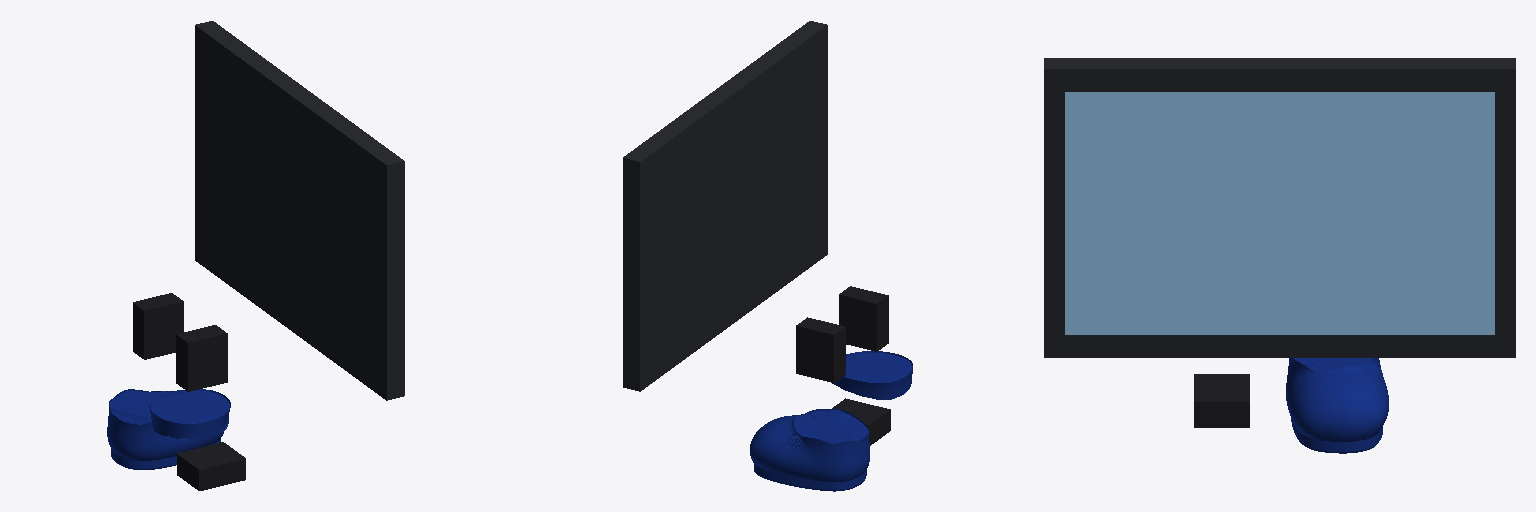
robot.urdf — haetburi:
<?xml version="1.0"?>
<!-- Haetburi biped (v14_sts3032_hidden_w4) - generated by tools/build_model.py, do not edit by hand -->
<robot name="haetburi">
  <mujoco>
    <compiler meshdir="." balanceinertia="true" discardvisual="false" strippath="false" fusestatic="false"/>
  </mujoco>
  <material name="display"><color rgba="0.18 0.19 0.21 1"/></material>
  <material name="screen"><color rgba="0.62 0.80 0.95 1"/></material>
  <material name="shell"><color rgba="0.106 0.216 0.541 1"/></material>
  <material name="motor"><color rgba="0.15 0.15 0.17 1"/></material>
  <material name="foot"><color rgba="0.25 0.25 0.28 1"/></material>
  <link name="world"/>
  <joint name="floating_base" type="floating">
    <parent link="world"/><child link="pelvis"/>
    <origin xyz="0 0 0" rpy="0 0 0"/>
  </joint>
  <link name="pelvis">
    <inertial>
      <origin xyz="0.0101596 -6.85088e-05 0.0236794" rpy="0 0 0"/>
      <mass value="0.249291"/>
      <inertia ixx="0.000142361" ixy="-1.47841e-07" ixz="-1.03926e-05" iyy="0.000101241" iyz="-4.72547e-09" izz="0.000178632"/>
    </inertial>
    <visual><origin xyz="0 0 0" rpy="0 0 0"/><geometry><mesh filename="meshes/pelvis.stl"/></geometry><material name="shell"/></visual>
    <visual><origin xyz="0.00550237 0.0220127 0.02575" rpy="0 0 0"/><geometry><box size="0.023 0.012 0.0275"/></geometry><material name="motor"/></visual>
    <visual><origin xyz="0.00549763 -0.0222844 0.02575" rpy="0 0 0"/><geometry><box size="0.023 0.012 0.0275"/></geometry><material name="motor"/></visual>
    <collision><origin xyz="0.00671404 -0.000131536 0.023485" rpy="0 0 0"/><geometry><box size="0.0804981 0.106897 0.04697"/></geometry></collision>
  </link>
  <link name="torso">
    <inertial>
      <origin xyz="0.0226896 7.48859e-05 0.100629" rpy="0 0 0"/>
      <mass value="1.49028"/>
      <inertia ixx="0.0181079" ixy="-4.17872e-05" ixz="0.00309935" iyy="0.0178599" iyz="-4.44757e-05" izz="0.0103089"/>
    </inertial>
    <visual><origin xyz="0 0 0" rpy="0 0 0"/><geometry><mesh filename="meshes/torso.stl"/></geometry><material name="shell"/></visual>
    <visual><origin xyz="0.0755394 0 0.036026" rpy="0 0 0"/><geometry><box size="0.010626 0.194502 0.131485"/></geometry><material name="display"/></visual>
    <visual><origin xyz="0.0808524 0 0.036026" rpy="0 0 0"/><geometry><box size="0.0004 0.177408 0.11088"/></geometry><material name="screen"/></visual>
    <collision><origin xyz="-0.0350725 -1.63269e-06 0.0258751" rpy="0 0 0"/><geometry><box size="0.164626 0.111628 0.10993"/></geometry></collision>
    <collision><origin xyz="0.0428274 0.0864663 0.0521403" rpy="0 0 0"/><geometry><sphere radius="0.0625461"/></geometry></collision>
    <collision><origin xyz="0.0431235 -0.0865989 0.0521403" rpy="0 0 0"/><geometry><sphere radius="0.0624859"/></geometry></collision>
    <collision><origin xyz="-0.00537556 0.000274911 0.105557" rpy="0 0 0"/><geometry><sphere radius="0.107279"/></geometry></collision>
    <collision><origin xyz="-0.0093671 -0.00012639 0.154956" rpy="0 0 0"/><geometry><sphere radius="0.123768"/></geometry></collision>
    <collision><origin xyz="-0.0142634 -0.000208602 0.204364" rpy="0 0 0"/><geometry><sphere radius="0.122334"/></geometry></collision>
    <collision><origin xyz="-0.0111896 0.000881206 0.253769" rpy="0 0 0"/><geometry><sphere radius="0.106374"/></geometry></collision>
    <collision><origin xyz="-0.00662124 0.00697499 0.303205" rpy="0 0 0"/><geometry><sphere radius="0.0758203"/></geometry></collision>
    <collision><origin xyz="-0.0121343 -0.00230539 0.352597" rpy="0 0 0"/><geometry><sphere radius="0.0440008"/></geometry></collision>
    <collision><origin xyz="0.0755394 0 0.036026" rpy="0 0 0"/><geometry><box size="0.010626 0.194502 0.131485"/></geometry></collision>
  </link>
  <link name="leg_l">
    <inertial>
      <origin xyz="-0.000367992 -0.000132726 -0.0185944" rpy="0 0 0"/>
      <mass value="0.0288688"/>
      <inertia ixx="7.12359e-06" ixy="-5.16586e-09" ixz="1.12115e-07" iyy="5.20705e-06" iyz="5.07951e-08" izz="6.41093e-06"/>
    </inertial>
    <visual><origin xyz="0 0 0" rpy="0 0 0"/><geometry><mesh filename="meshes/leg_l.stl"/></geometry><material name="shell"/></visual>
    <collision><origin xyz="-5.09274e-07 -7.0208e-06 -0.00549822" rpy="0 0 0"/><geometry><box size="0.0419908 0.0384706 0.0109964"/></geometry></collision>
  </link>
  <link name="foot_l">
    <inertial>
      <origin xyz="0.00106087 0.0048784 -0.0015144" rpy="0 0 0"/>
      <mass value="0.0833169"/>
      <inertia ixx="1.53542e-05" ixy="-8.19337e-07" ixz="-2.8313e-07" iyy="2.30546e-05" iyz="-8.12645e-07" izz="2.68084e-05"/>
    </inertial>
    <visual><origin xyz="0 0 0" rpy="0 0 0"/><geometry><mesh filename="meshes/foot_l.stl"/></geometry><material name="shell"/></visual>
    <visual><origin xyz="0 0.0055 3.36778e-19" rpy="0 0 0"/><geometry><box size="0.0275 0.023 0.012"/></geometry><material name="motor"/></visual>
    <collision><origin xyz="0 0 0" rpy="0 0 0"/><geometry><mesh filename="meshes/foot_l.stl"/></geometry></collision>
  </link>
  <link name="leg_r">
    <inertial>
      <origin xyz="-0.000275034 0.000152833 -0.0184943" rpy="0 0 0"/>
      <mass value="0.0289852"/>
      <inertia ixx="7.18699e-06" ixy="-2.16281e-08" ixz="8.77493e-08" iyy="5.21536e-06" iyz="-5.85372e-08" izz="6.45452e-06"/>
    </inertial>
    <visual><origin xyz="0 0 0" rpy="0 0 0"/><geometry><mesh filename="meshes/leg_r.stl"/></geometry><material name="shell"/></visual>
    <collision><origin xyz="1.21621e-06 1.11302e-05 -0.00542772" rpy="0 0 0"/><geometry><box size="0.0419568 0.0385446 0.0108554"/></geometry></collision>
  </link>
  <link name="foot_r">
    <inertial>
      <origin xyz="0.000557456 -0.0045847 -0.00155031" rpy="0 0 0"/>
      <mass value="0.0831444"/>
      <inertia ixx="1.51956e-05" ixy="7.92488e-07" ixz="-1.55138e-07" iyy="2.28847e-05" iyz="7.60891e-07" izz="2.65985e-05"/>
    </inertial>
    <visual><origin xyz="0 0 0" rpy="0 0 0"/><geometry><mesh filename="meshes/foot_r.stl"/></geometry><material name="shell"/></visual>
    <visual><origin xyz="0 -0.0055 3.36778e-19" rpy="0 0 0"/><geometry><box size="0.0275 0.023 0.012"/></geometry><material name="motor"/></visual>
    <collision><origin xyz="0 0 0" rpy="0 0 0"/><geometry><mesh filename="meshes/foot_r.stl"/></geometry></collision>
  </link>
  <joint name="waist_fixed" type="fixed">
    <parent link="pelvis"/><child link="torso"/>
    <origin xyz="0 0 0.04697" rpy="0 0 0"/>
  </joint>
  <joint name="hip_yaw_l" type="revolute">
    <parent link="pelvis"/><child link="leg_l"/>
    <origin xyz="2.37097e-06 0.0220127 0" rpy="0 0 0"/>
    <axis xyz="0 0 1"/>
    <limit lower="-0.523599" upper="0.523599" effort="0.44" velocity="11.6"/>
    <dynamics damping="0.03142857142857144" friction="0.012571428571428574"/>
  </joint>
  <joint name="hip_yaw_r" type="revolute">
    <parent link="pelvis"/><child link="leg_r"/>
    <origin xyz="-2.37097e-06 -0.0222844 0" rpy="0 0 0"/>
    <axis xyz="0 0 1"/>
    <limit lower="-0.523599" upper="0.523599" effort="0.44" velocity="11.6"/>
    <dynamics damping="0.03142857142857144" friction="0.012571428571428574"/>
  </joint>
  <joint name="ankle_roll_l" type="revolute">
    <parent link="leg_l"/><child link="foot_l"/>
    <origin xyz="0.00933212 -0.00456144 -0.0352375" rpy="0 0 0"/>
    <axis xyz="1 0 0"/>
    <limit lower="-0.261799" upper="0.261799" effort="0.44" velocity="11.6"/>
    <dynamics damping="0.03142857142857144" friction="0.012571428571428574"/>
  </joint>
  <joint name="ankle_roll_r" type="revolute">
    <parent link="leg_r"/><child link="foot_r"/>
    <origin xyz="0.0102099 0.00397892 -0.0352375" rpy="0 0 0"/>
    <axis xyz="1 0 0"/>
    <limit lower="-0.261799" upper="0.261799" effort="0.44" velocity="11.6"/>
    <dynamics damping="0.03142857142857144" friction="0.012571428571428574"/>
  </joint>
</robot>

--- Render facts (derived) ---
The picture shows the robot from 3 angles, left to right: view 1: azimuth 30°, elevation 25°; view 2: azimuth 150°, elevation 25°; view 3: azimuth 270°, elevation 25°; orthographic projection.
Robot: haetburi — 7 links, 6 joints (4 revolute, 1 fixed, 1 floating); root link world; default pose: all joints at 0.
Visible links, largest first — view 1: torso, pelvis, foot_l, leg_r, foot_r; view 2: torso, foot_l, pelvis, leg_r, foot_r; view 3: torso, foot_l, foot_r.
Boxes of the visible links, bbox=[...] form: torso: bbox=[195, 21, 404, 400]; pelvis: bbox=[133, 293, 227, 391]; foot_l: bbox=[107, 389, 223, 469]; leg_r: bbox=[149, 389, 230, 438]; foot_r: bbox=[177, 442, 245, 490]; torso: bbox=[623, 21, 827, 391]; foot_l: bbox=[750, 408, 869, 491]; pelvis: bbox=[796, 286, 888, 382]; leg_r: bbox=[832, 351, 912, 399]; foot_r: bbox=[832, 398, 890, 445]; torso: bbox=[1044, 58, 1515, 357]; foot_l: bbox=[1286, 358, 1388, 453]; foot_r: bbox=[1194, 374, 1249, 427].
Size in the robot's own frame: 0.102 by 0.1945 by 0.1944 metres.
Meshes: 6 distinct files referenced, 2 mesh visuals loaded (2 binary STL); not drawn: 4 (reference not matched to a file when rendering).
